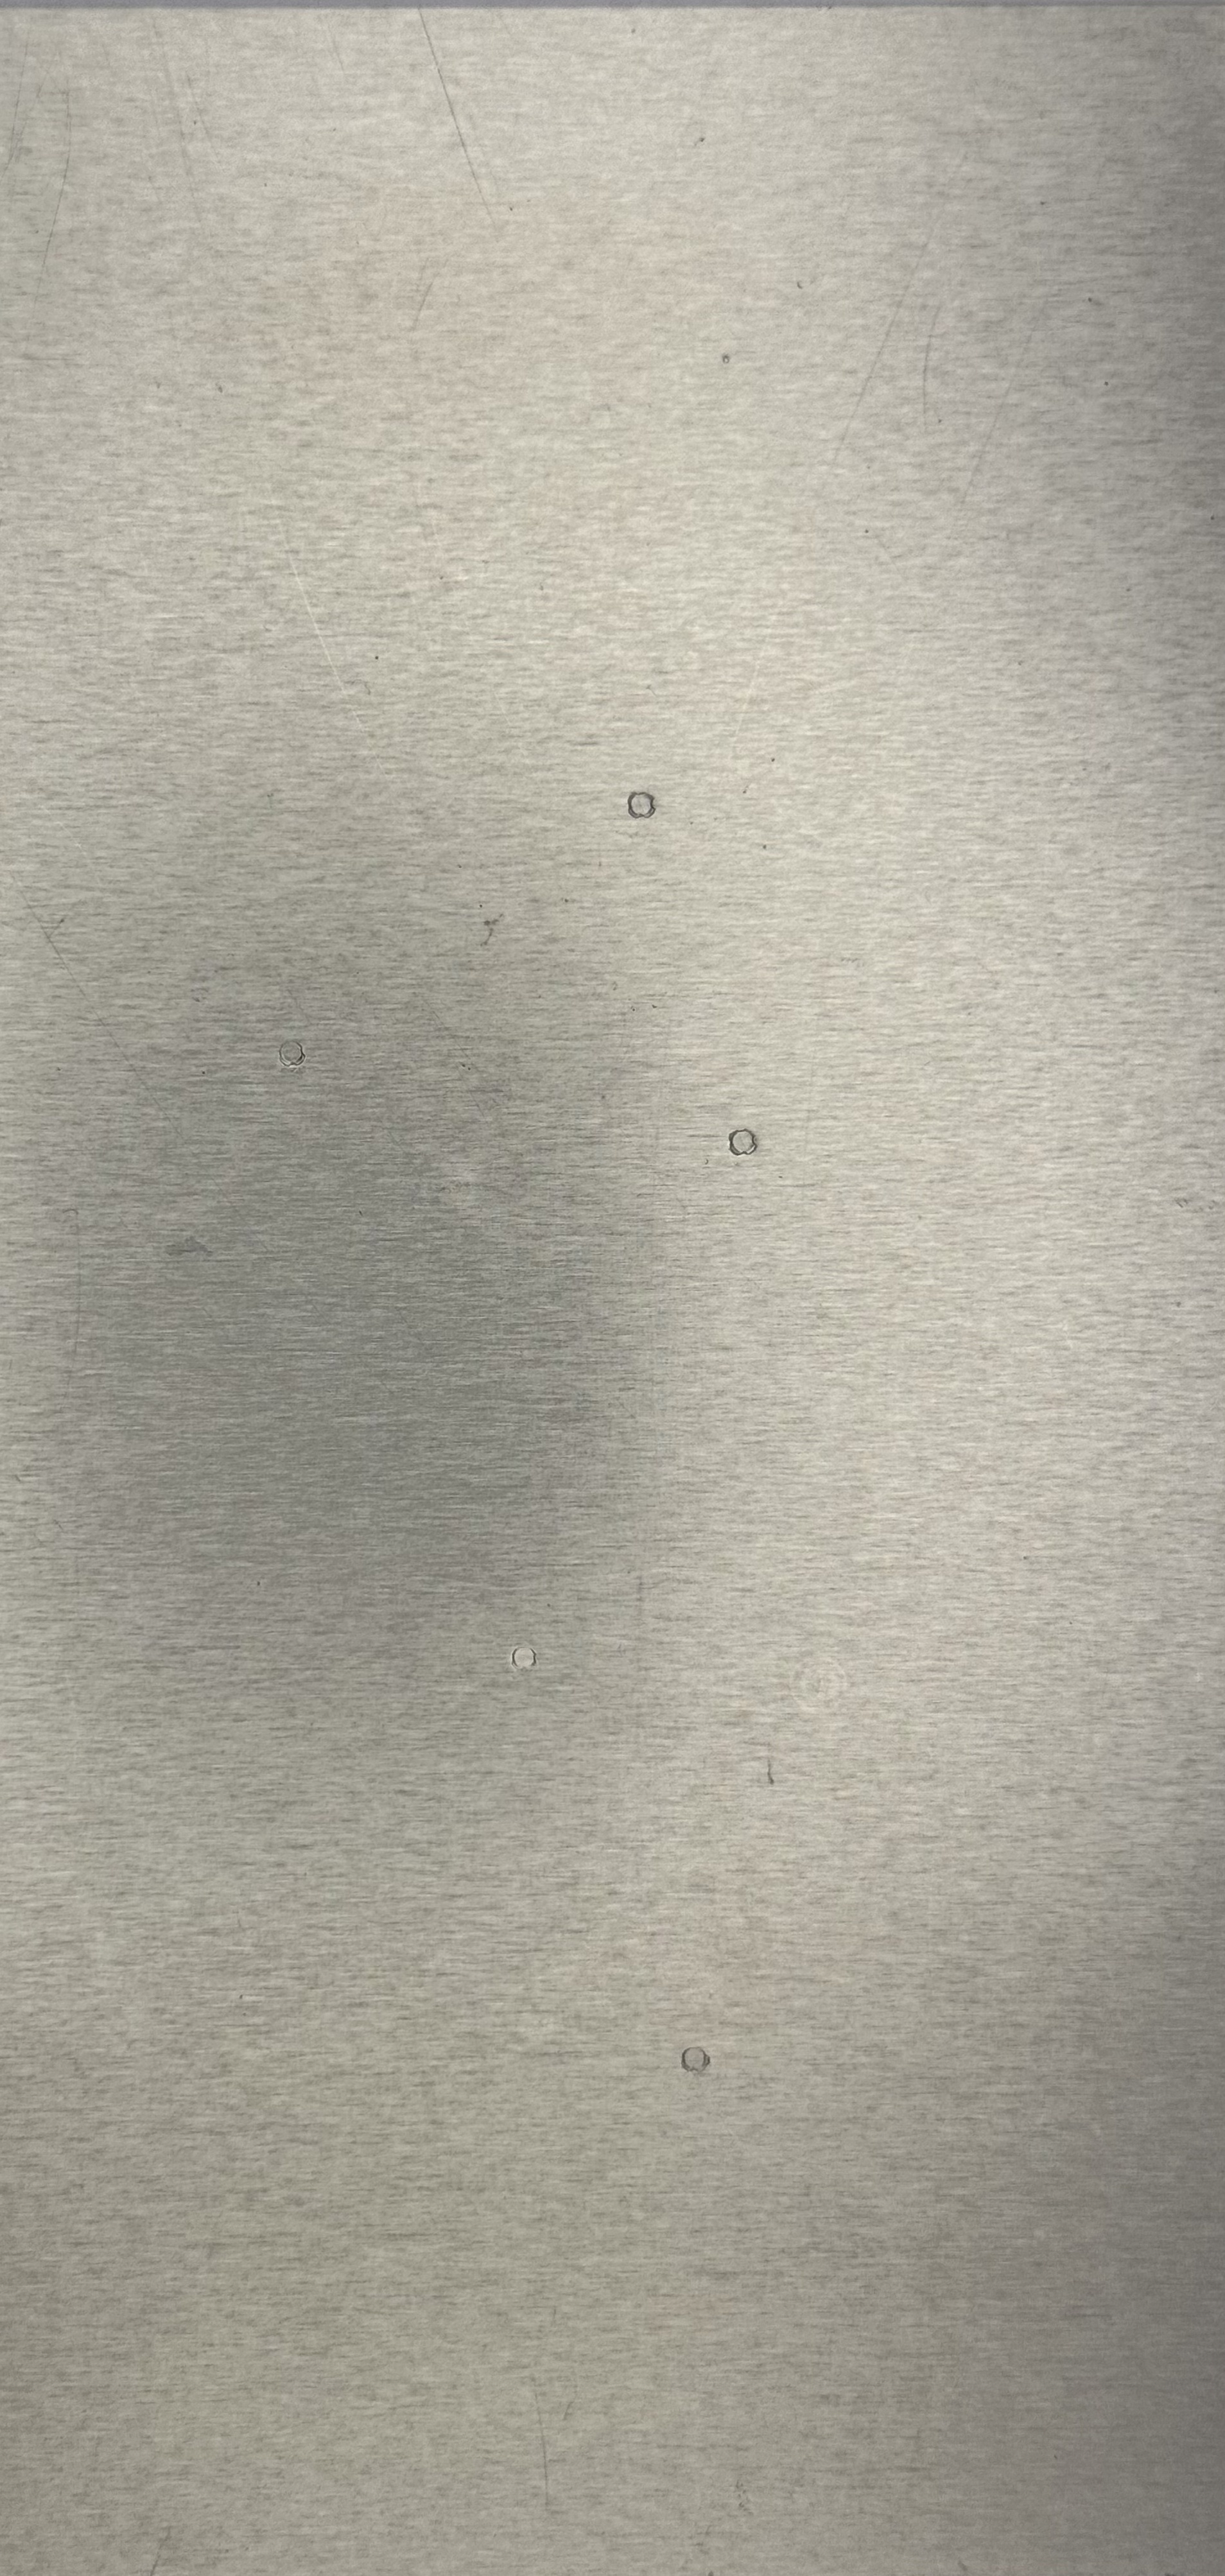Delle: (762, 1625, 882, 1732), (657, 2017, 734, 2096), (706, 1109, 785, 1183), (488, 1626, 568, 1697), (609, 775, 672, 838), (264, 1020, 323, 1086)
